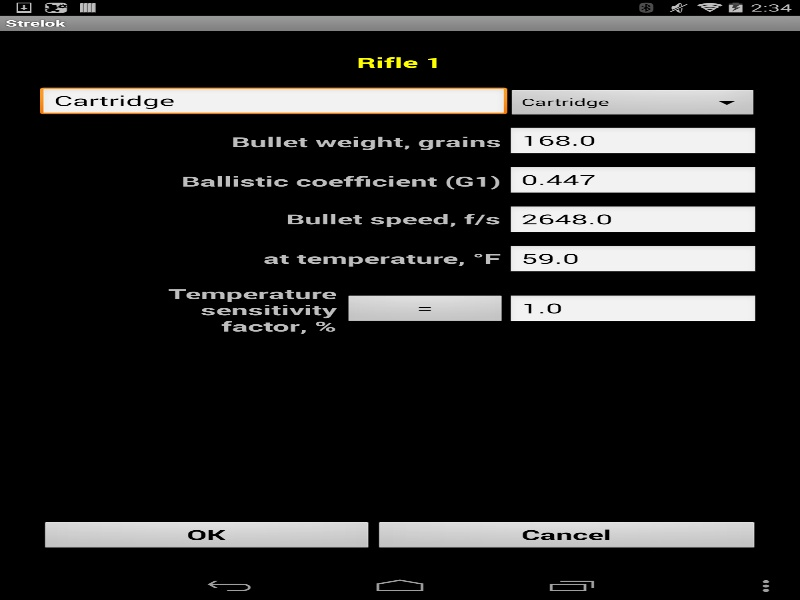Button: (374, 521, 760, 551), (40, 521, 374, 551), (343, 294, 507, 324)
Input: (40, 87, 507, 117), (507, 126, 758, 156), (507, 166, 758, 196), (507, 205, 758, 235), (507, 245, 758, 275), (507, 294, 758, 324)
